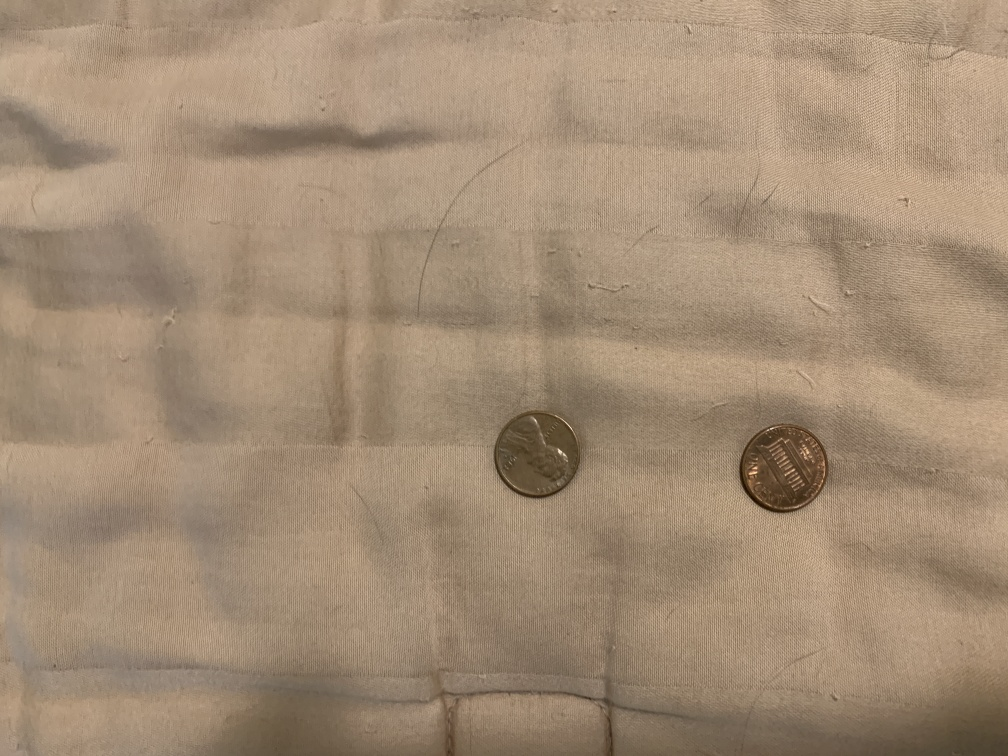penny: (735, 421, 830, 523), (490, 409, 583, 502)
